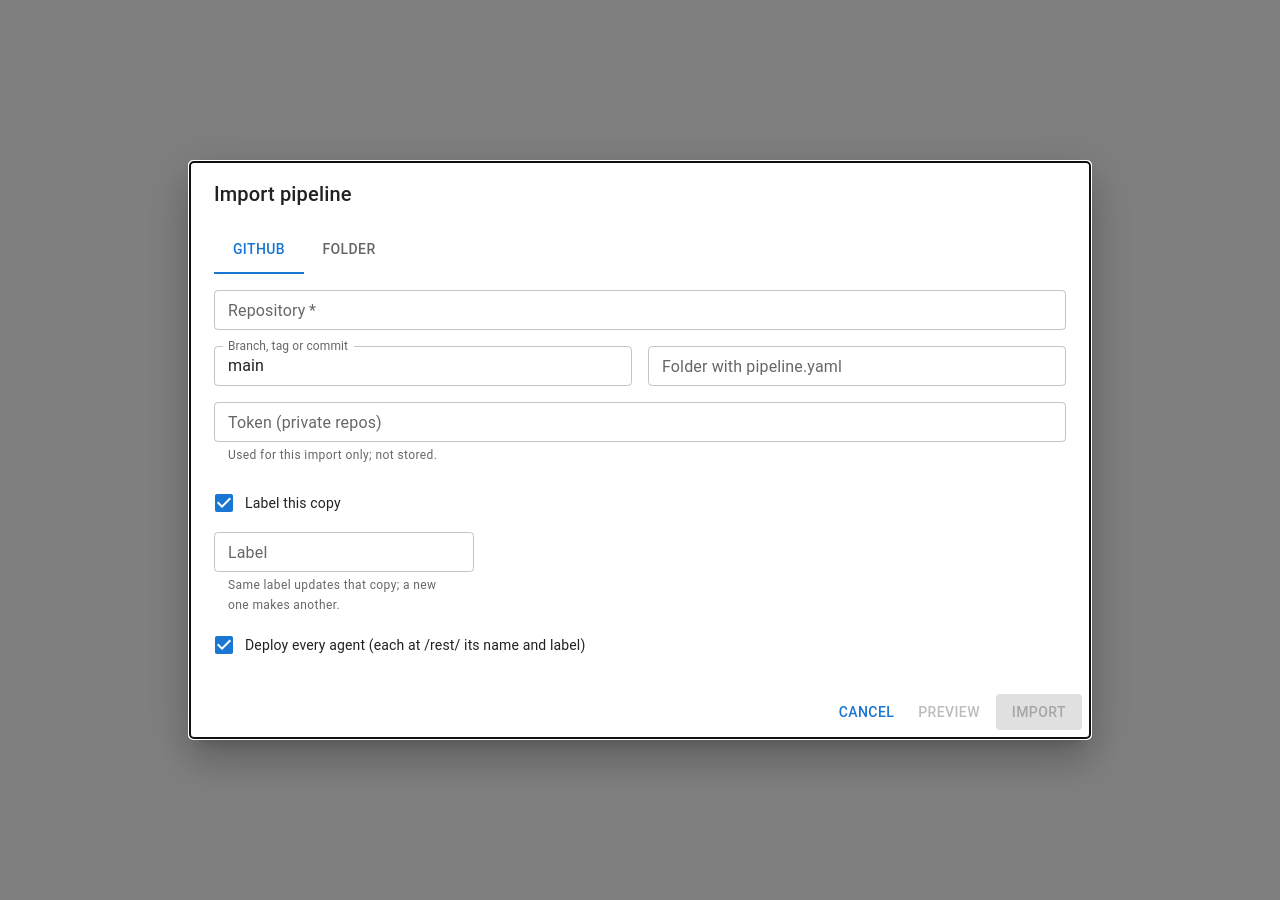
Test: PipelineImportDialog › deploys every agent unless unticked
The image size is (1280, 900).
Later steps or results of the test are not shown.
Click the checkbox labelled "Deploy every agent (each at /rest/ its name and label)" at (399, 645), box [212,633,585,657]
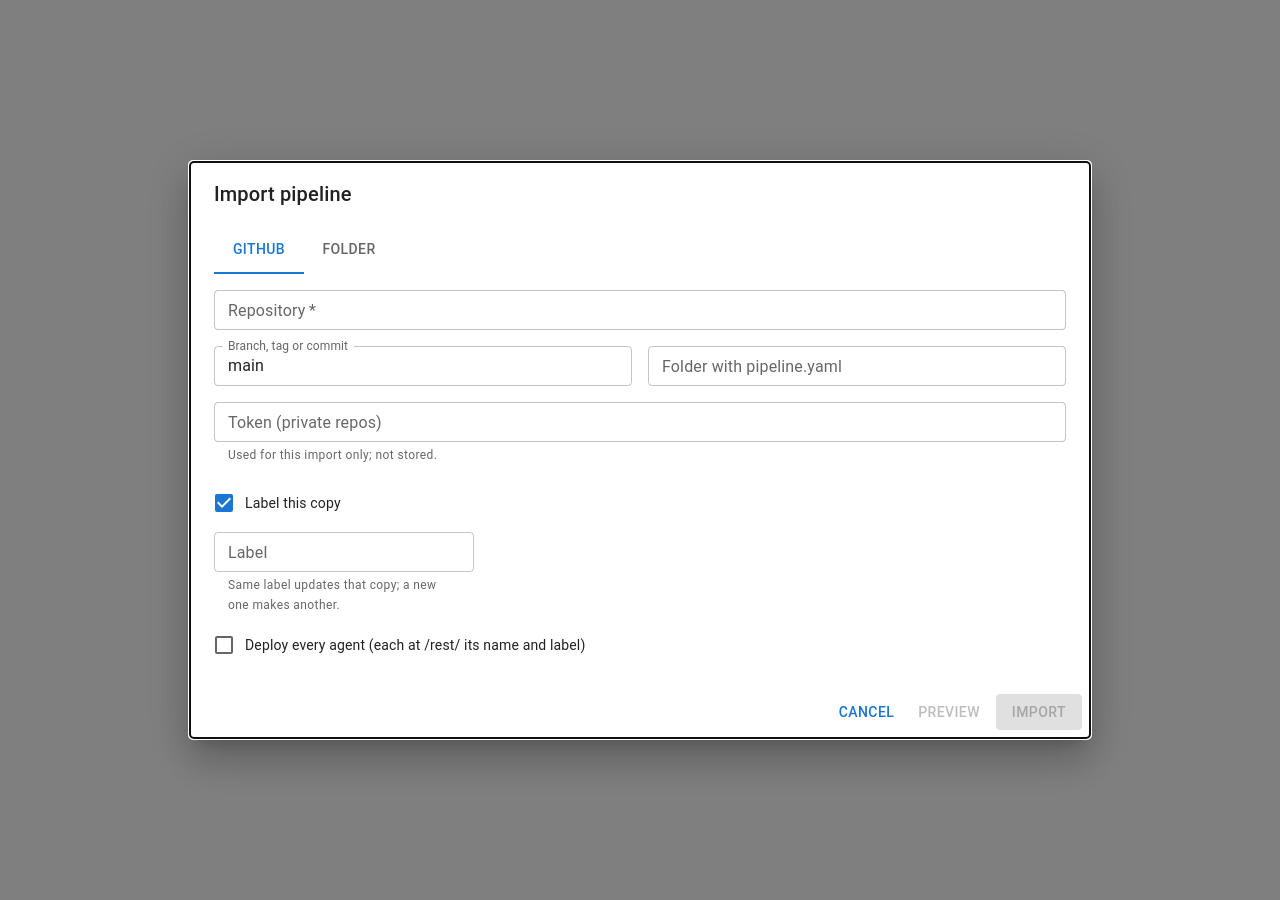
Type "a/b" into the field labelled "Repository *" at (640, 310), box [214,290,1066,330]
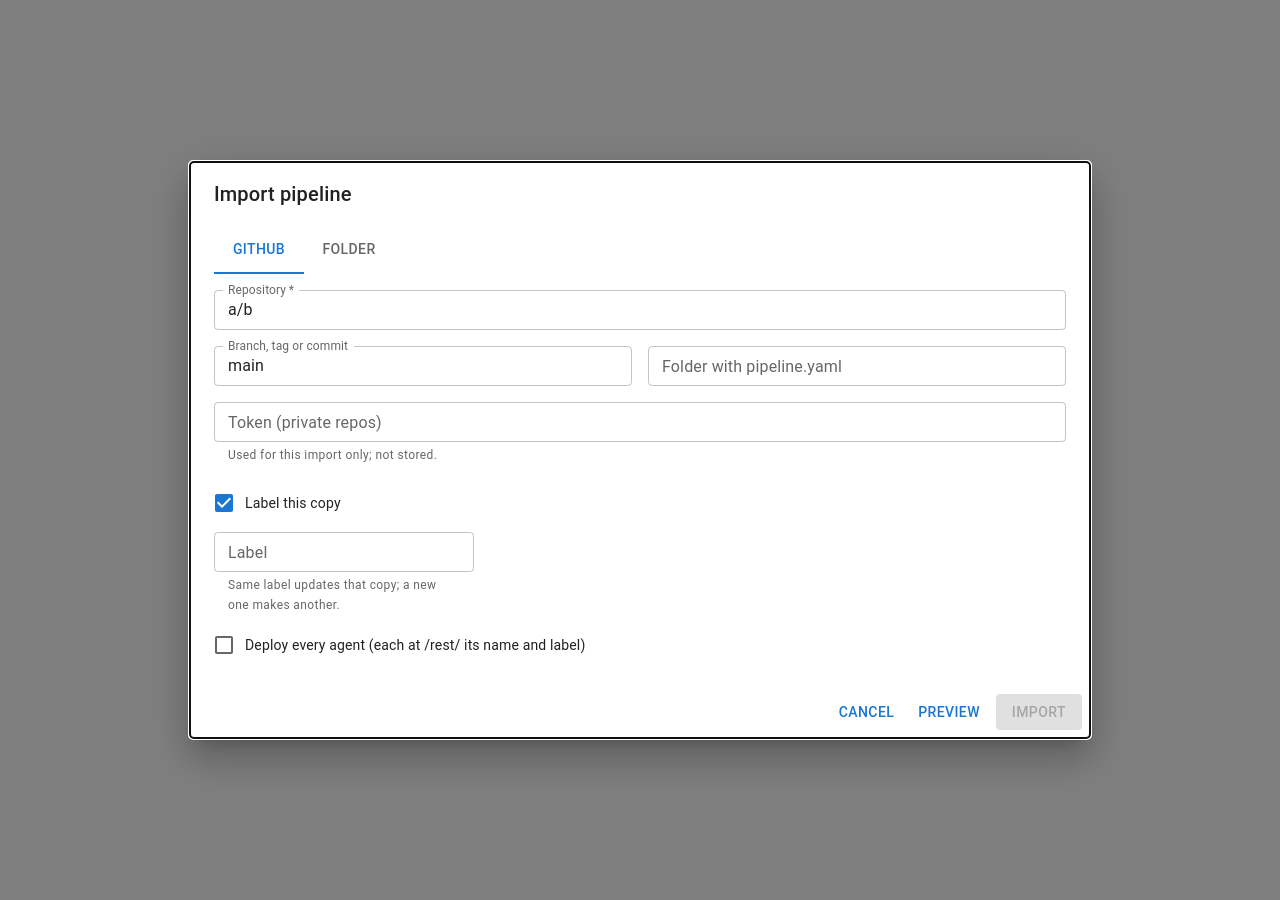
Click the button "Preview" at (949, 712), box [910,694,988,730]
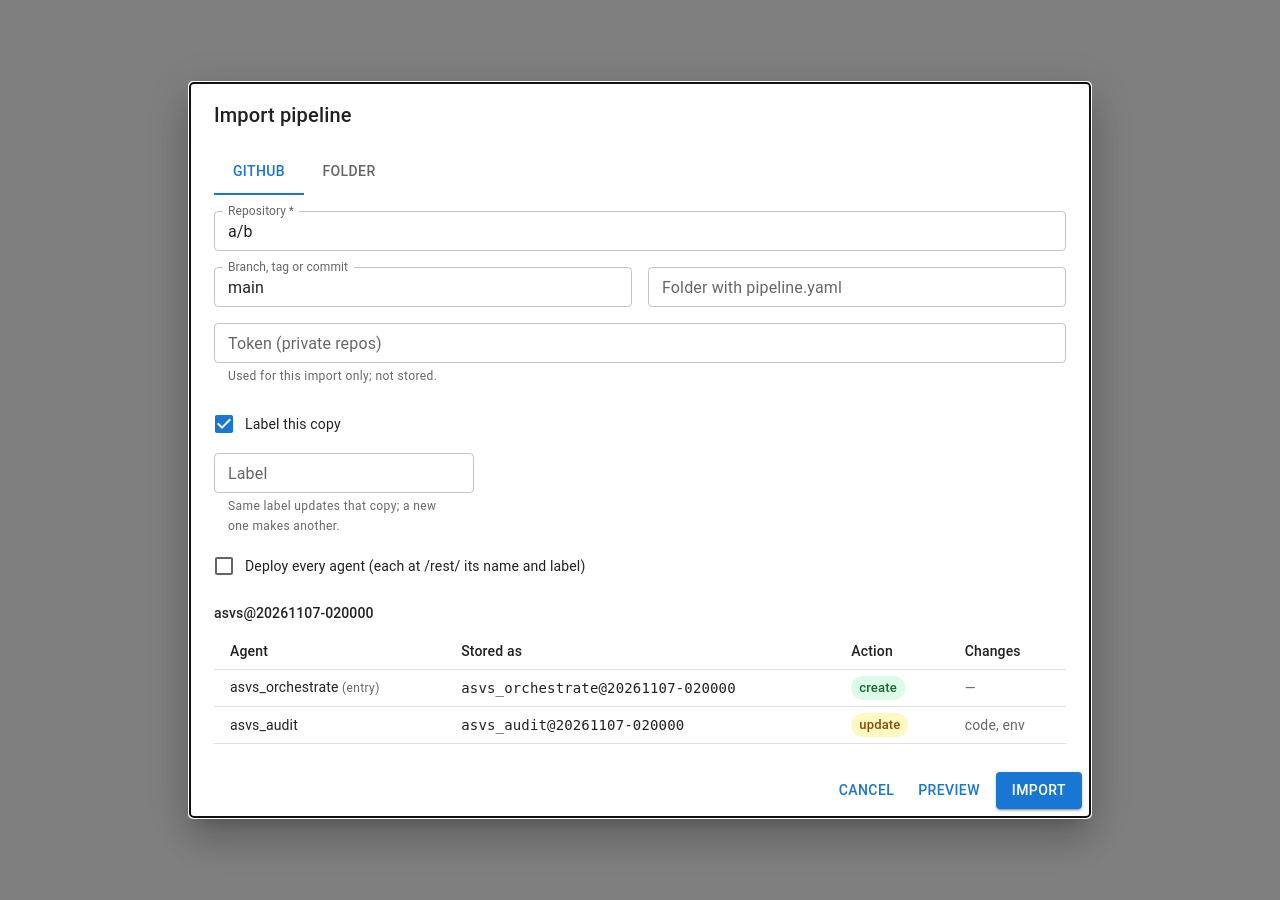
Expected: the text "code, env" is shown, [965,717,1025,733]
